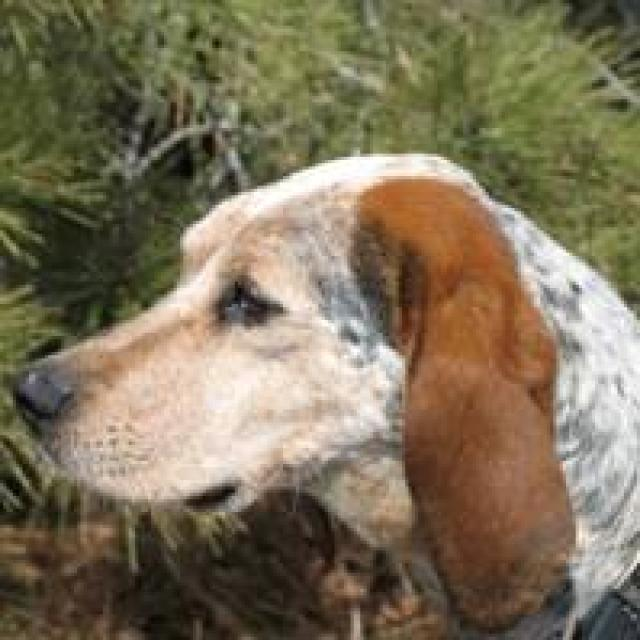dog: (6, 147, 637, 637)
